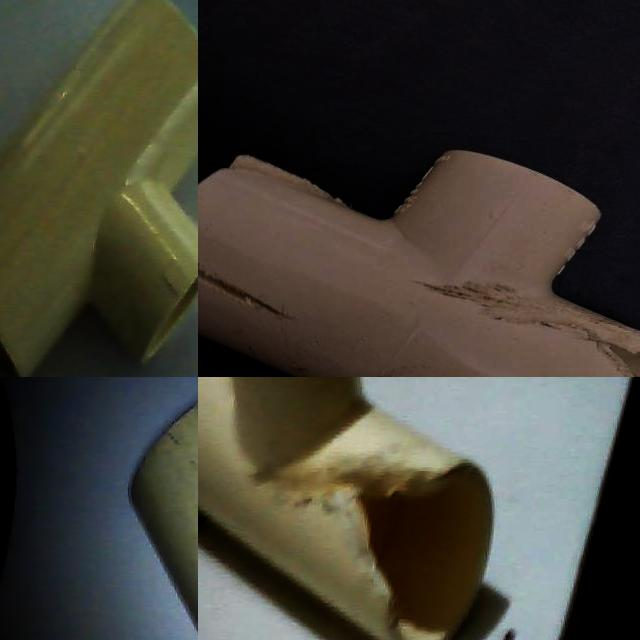Defective: (280, 453, 434, 620), (198, 227, 298, 352), (412, 264, 562, 334), (557, 305, 640, 377), (550, 202, 614, 279), (215, 155, 260, 204)
T Joint: (198, 150, 640, 377), (198, 377, 493, 640), (0, 0, 198, 377)
